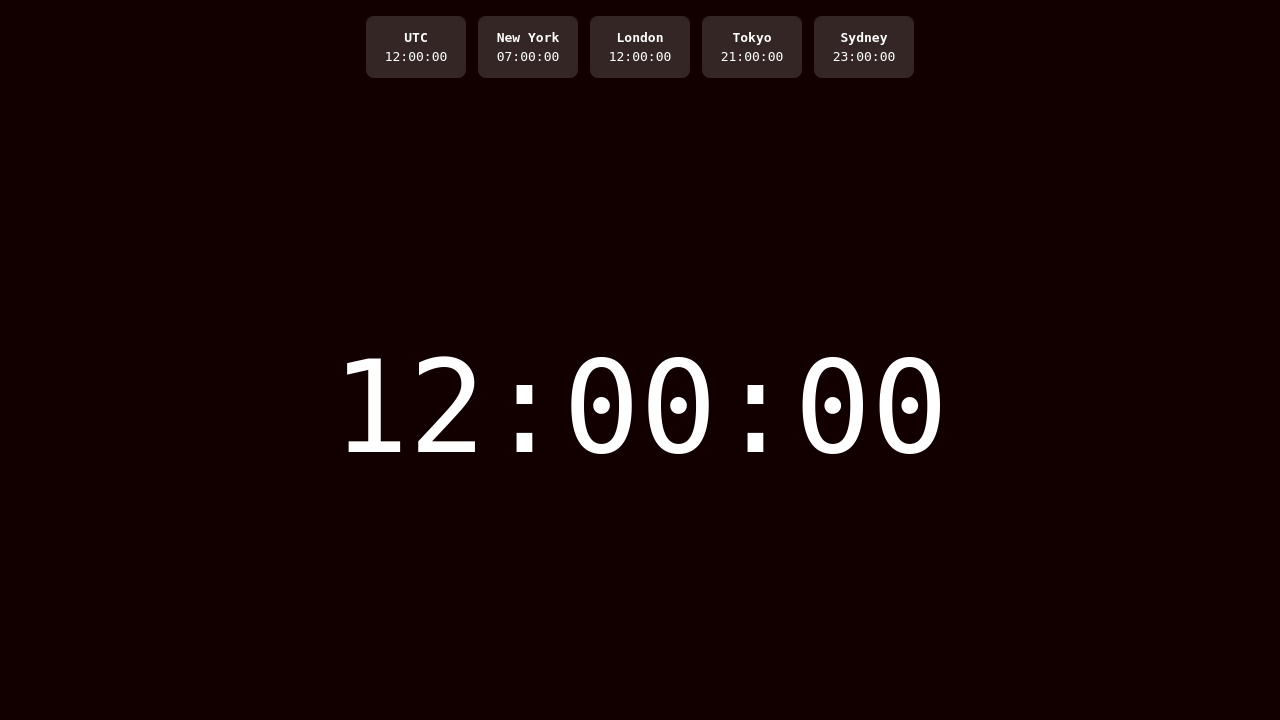
Test case: App › clicking the active timezone again returns to local time
This screenshot has width=1280, height=720.
Click the text "Tokyo".
click(752, 38)  # box [732, 30, 772, 45]
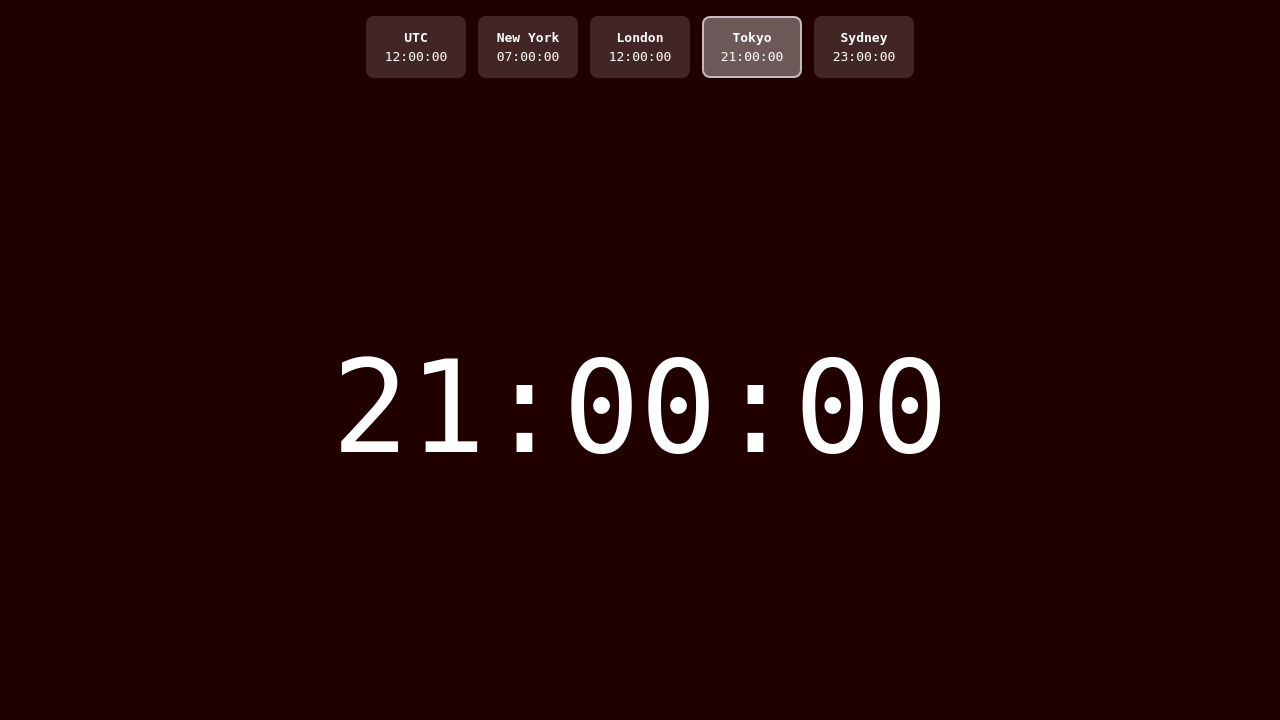
Expected: the 2nd text "21:00:00" is shown, [332, 332, 948, 482]
// Click Tokyo again to deselect
Click the text "Tokyo".
click(752, 38)  # box [732, 30, 772, 45]
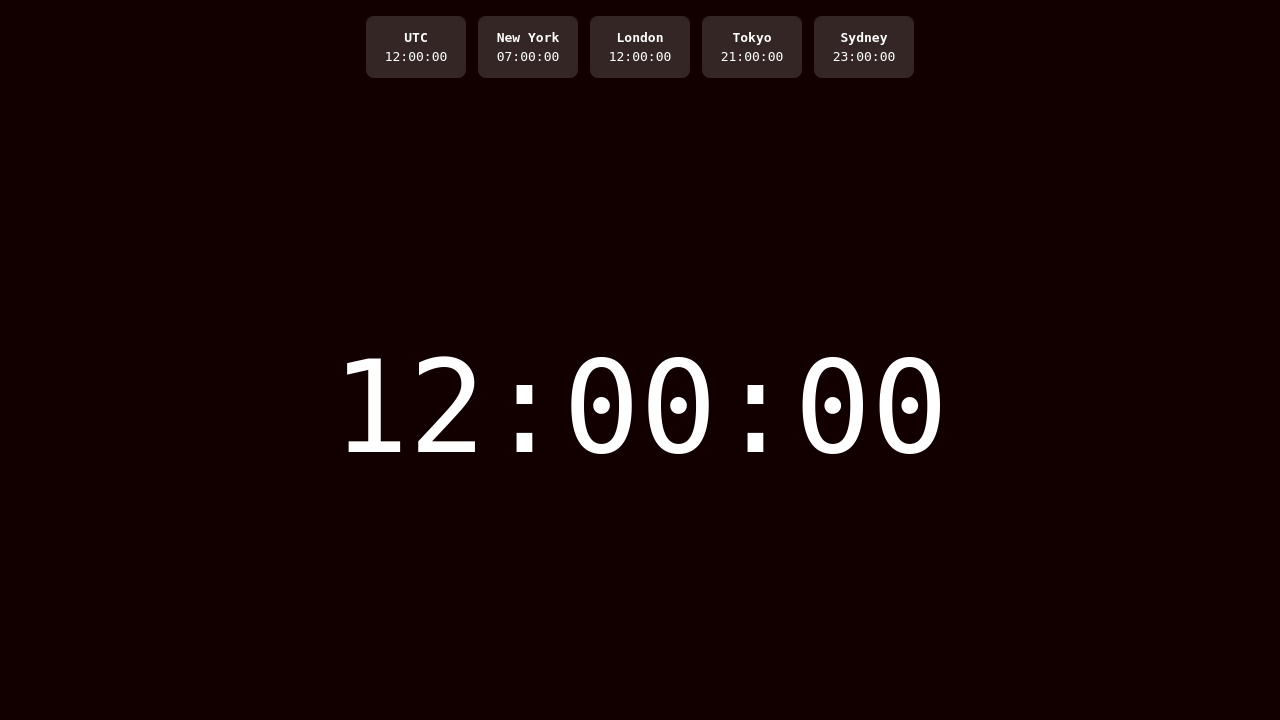
Expected: the 3rd text "12:00:00" is shown, [332, 332, 948, 482]
Expected: the text "21:00:00" is gone
